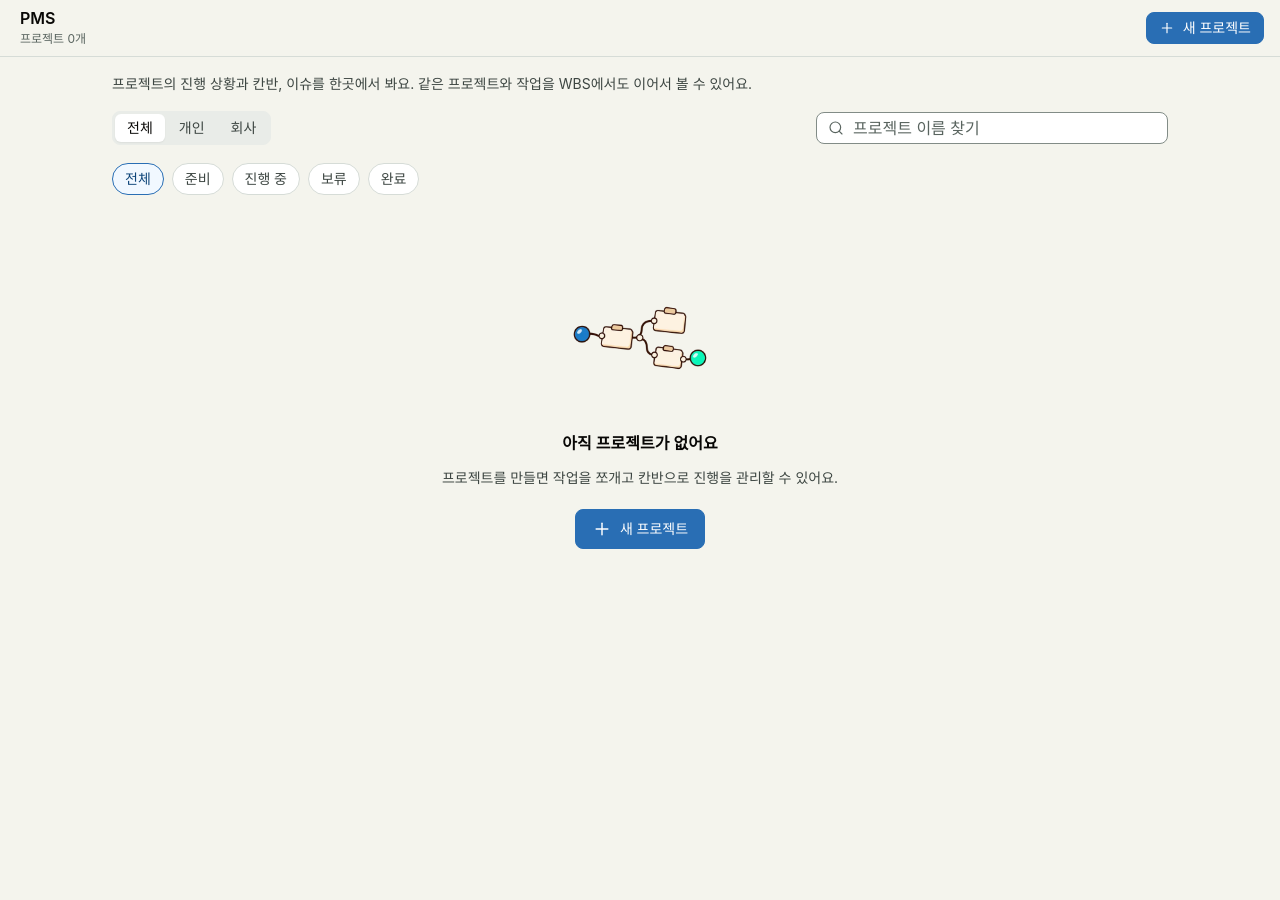
Test: 프로젝트 목록 화면 › 새 프로젝트: 이름이 없으면 막고, 기본 단계와 함께 만든다
The image size is (1280, 900).
Expected: the text "아직 프로젝트가 없어요" is shown, [562,431,718,455]
Click the button "새 프로젝트" in the row of "프로젝트 0개" at (1205, 28), box [1146,12,1264,44]
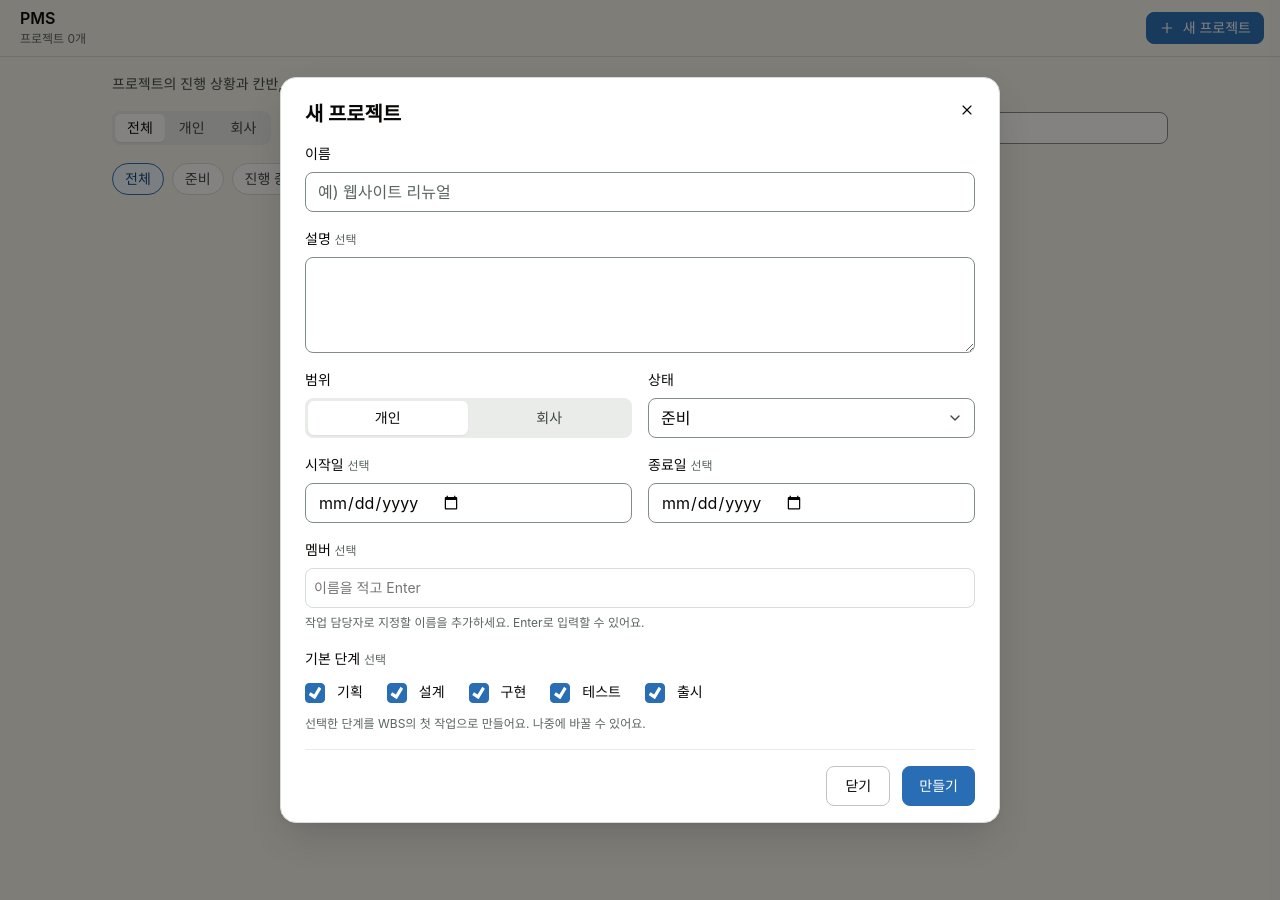
Click the button "만들기" at (939, 786), box [902,766,975,806]
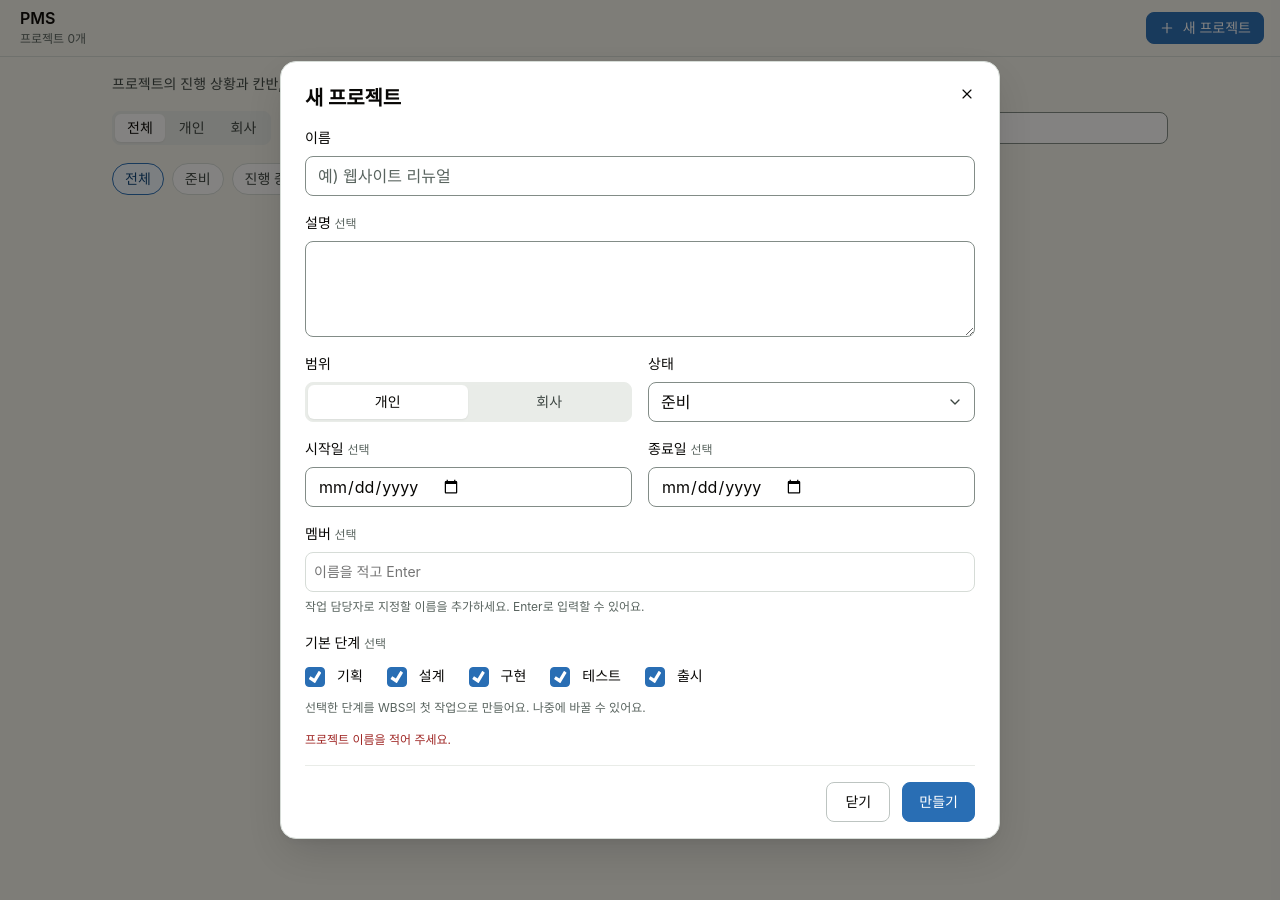
Now the text "프로젝트 이름을 적어 주세요." is shown, box [305,732,451,747]
Type "새 일" into the field labelled "이름" at (640, 176), box [305,156,975,196]
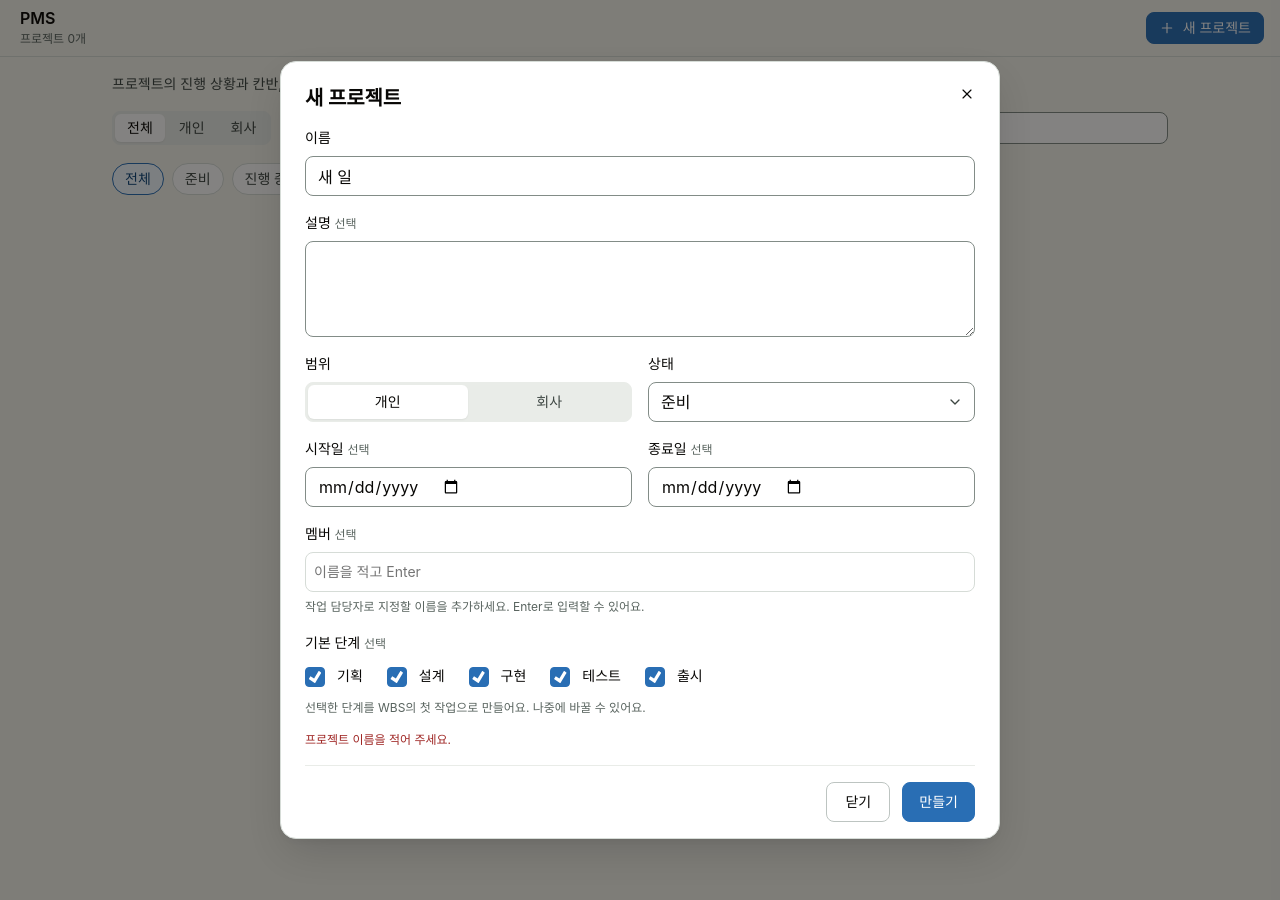
Click the button "만들기" at (939, 802), box [902,782,975,822]
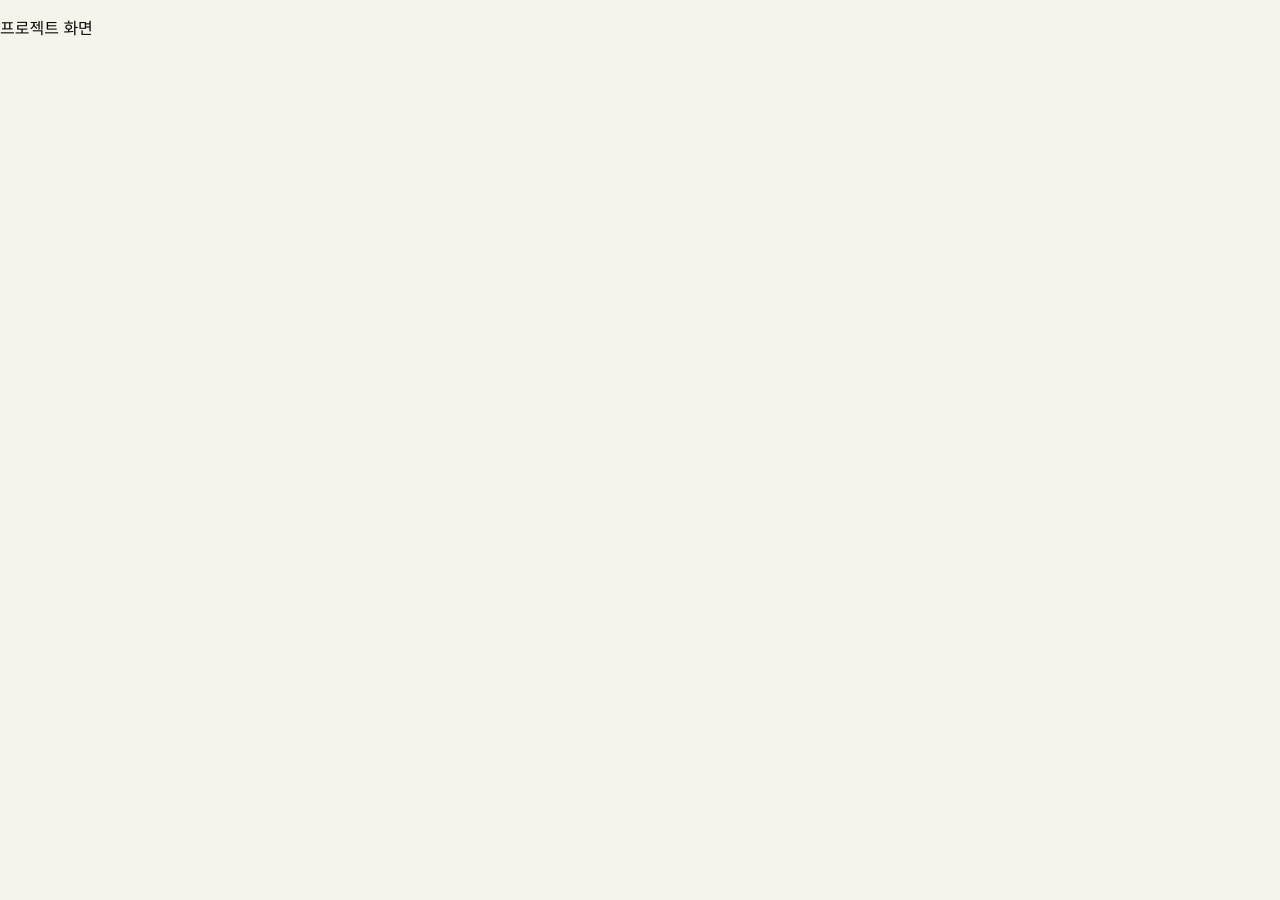
Now the text "프로젝트 화면" is shown, box [0,18,93,38]
